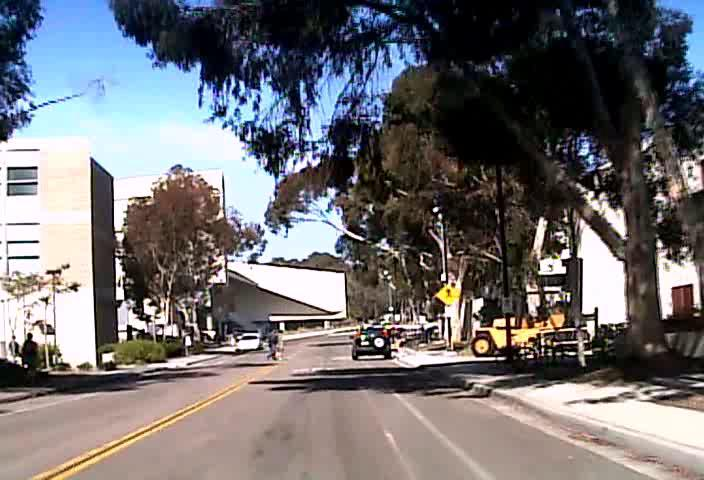pedestrianCrossing: (434, 283, 460, 306)
